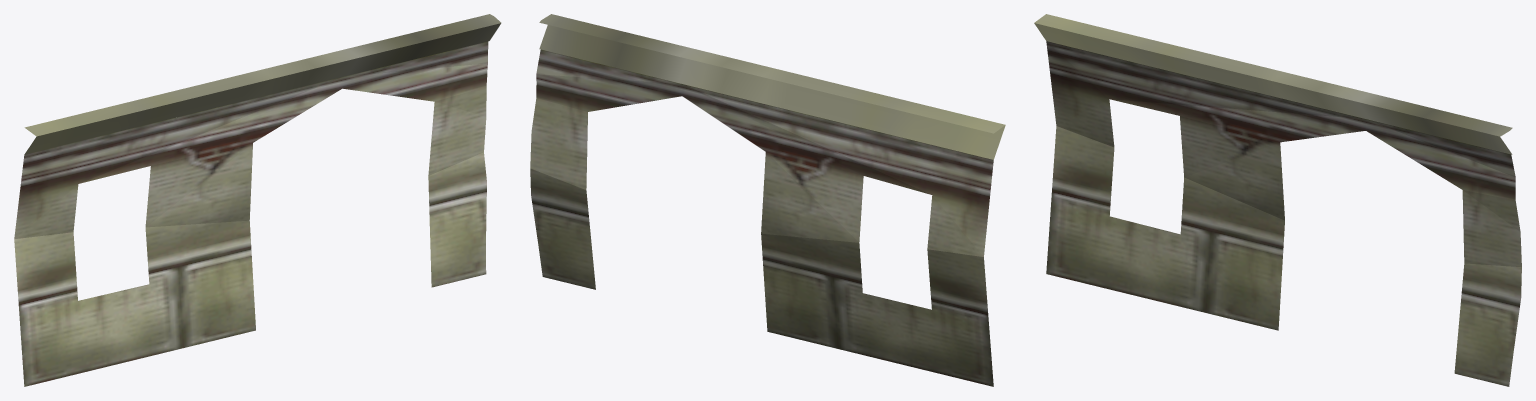
The picture shows the model from 3 angles, left to right: view 1: azimuth 30°, elevation 25°; view 2: azimuth 150°, elevation 25°; view 3: azimuth 330°, elevation 25°; orthographic projection. The views are drawn at different scales.
Visible parts, largest first — view 1: polySurfaceShape767, polySurfaceShape1054; view 2: polySurfaceShape767, polySurfaceShape1054; view 3: polySurfaceShape767, polySurfaceShape1054.
Boxes of the visible parts, x1,y1,x2,y2 form: polySurfaceShape767: [14, 41, 488, 386]; polySurfaceShape1054: [24, 14, 501, 154]; polySurfaceShape767: [530, 49, 993, 386]; polySurfaceShape1054: [539, 14, 1005, 159]; polySurfaceShape767: [1046, 41, 1521, 386]; polySurfaceShape1054: [1034, 14, 1512, 154].
Size of the model in its own units: 0.7351 by 0.3891 by 0.0607.
2 materials, 2 textured.
